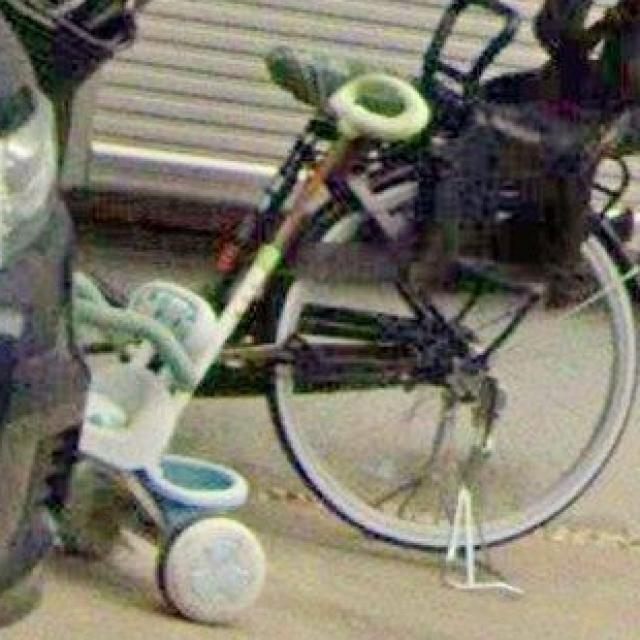bicycle: (199, 51, 640, 564)
